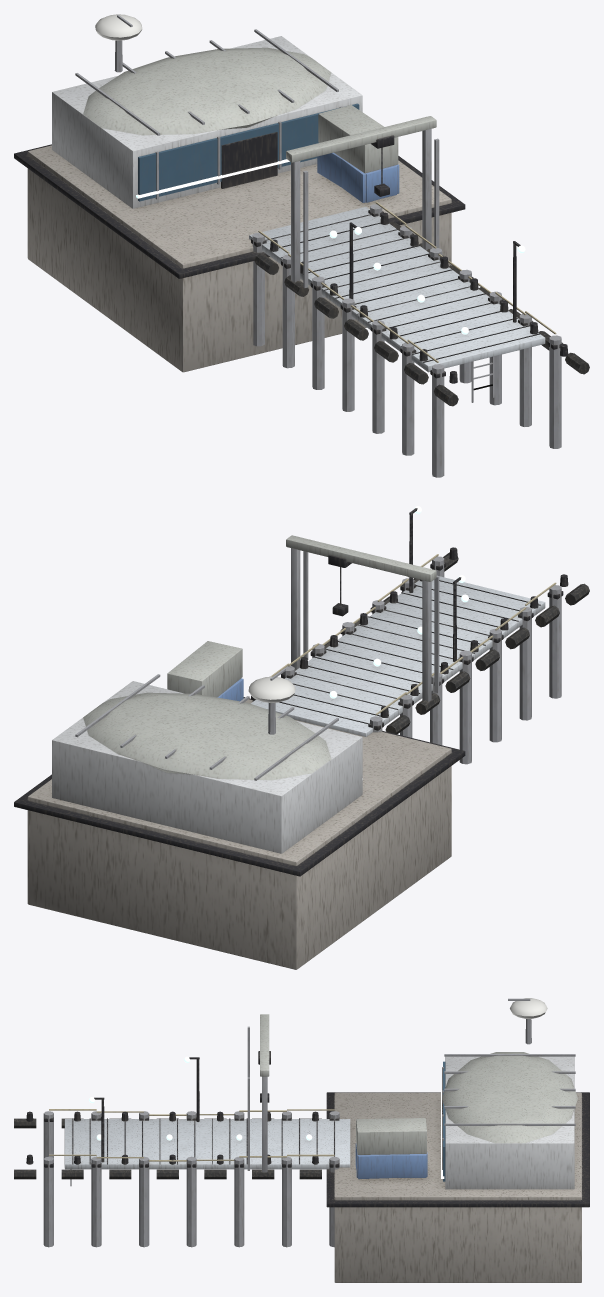
The model's file is west_dock.glb.
The picture shows the model from 3 angles, top to bottom: view 1: azimuth 30°, elevation 25°; view 2: azimuth 150°, elevation 25°; view 3: azimuth 270°, elevation 25°; orthographic projection. The views are drawn at different scales.
Parts seen in each view (by area): view 1: Hull, Spin; view 2: Hull, Spin; view 3: Hull, Spin.
Part boxes in pixels (x1,y1,x2,y2): Hull: (14, 29, 589, 477); Spin: (95, 14, 142, 40); Hull: (14, 506, 589, 969); Spin: (248, 668, 295, 702); Hull: (14, 1014, 589, 1282); Spin: (508, 998, 547, 1018).
Bounding box in the file's own units: 8.3 × 7.02 × 18.15.
Materials: 13 (11 with a texture image).
